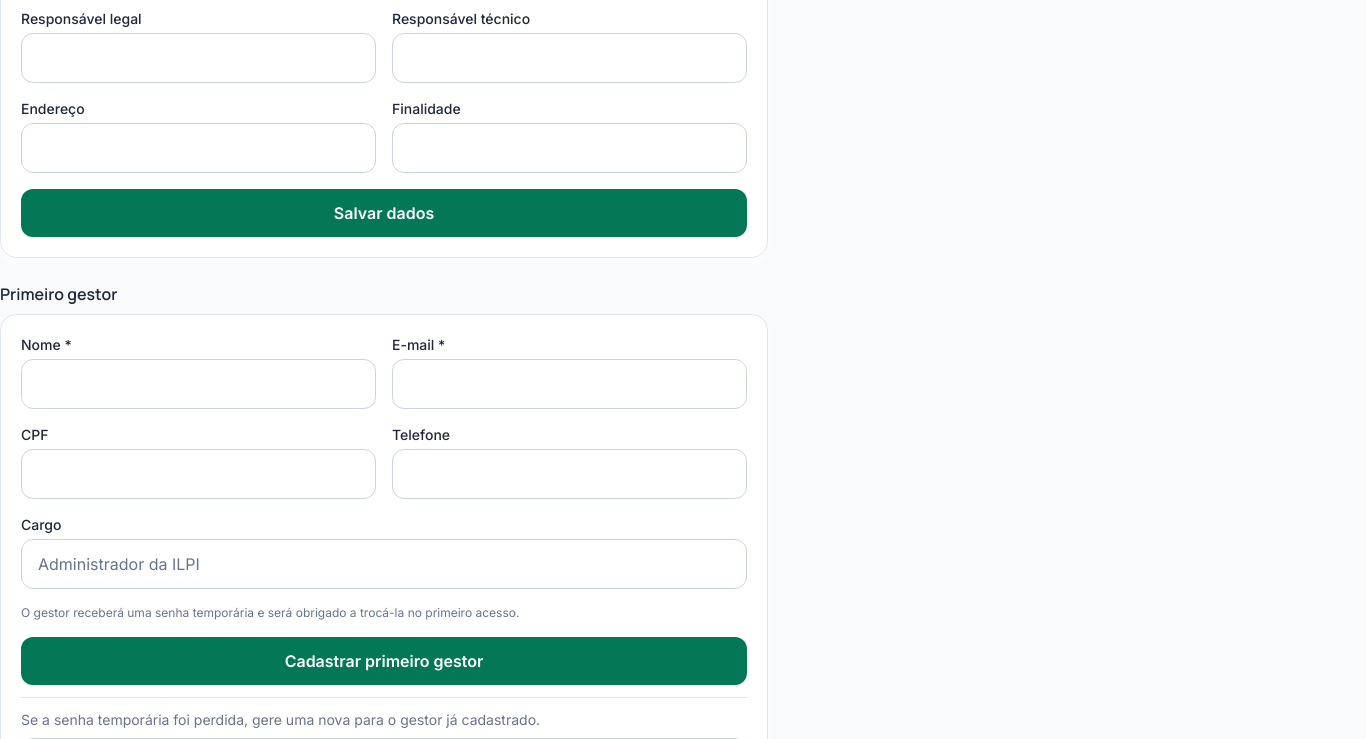
Test: Central — primeiro gestor e credencial › 14. cria gestor e exibe a senha temporária uma vez
The image size is (1366, 739).
(page scrolled)
Step 1. Type "Maria Gestora" into the field labelled "Nome *" → (198, 384), box [21,359,376,409]
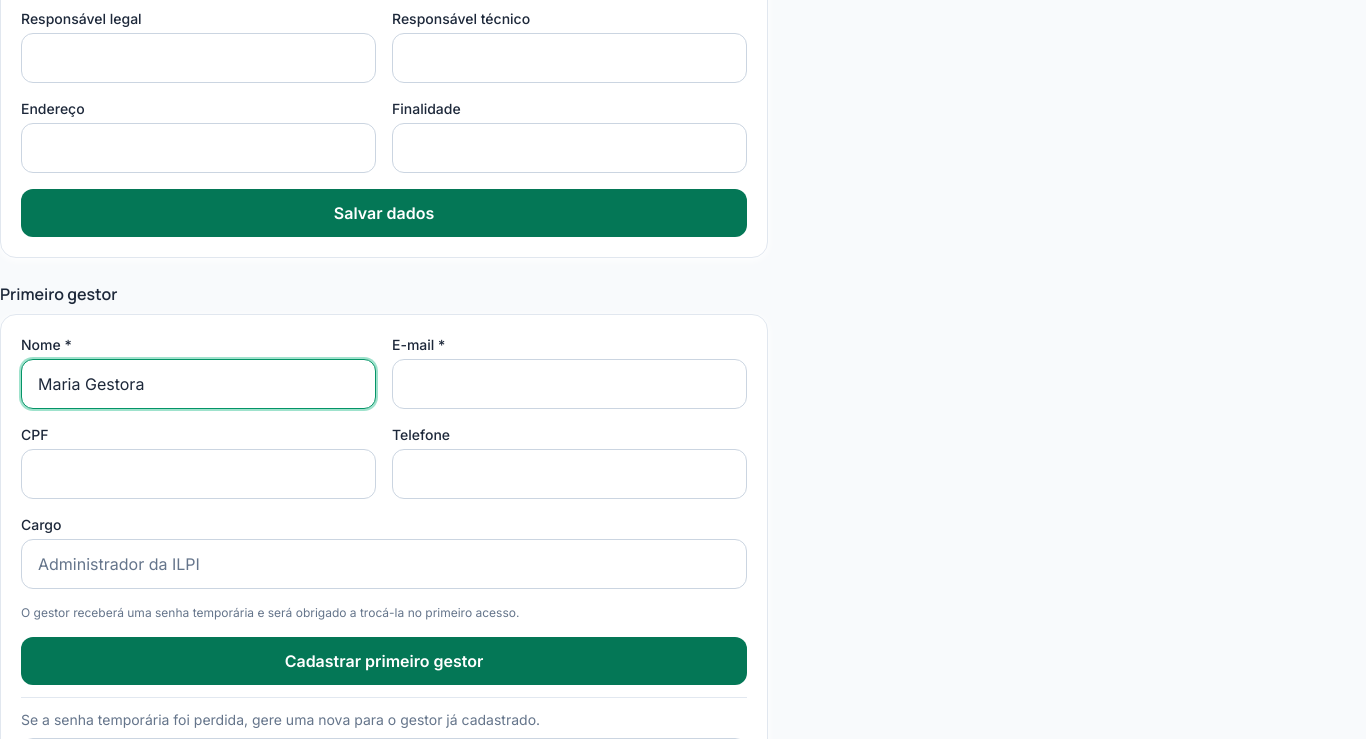
Step 2. Type "maria@casa.com.br" into the field labelled "E-mail *" → (570, 384), box [392,359,747,409]
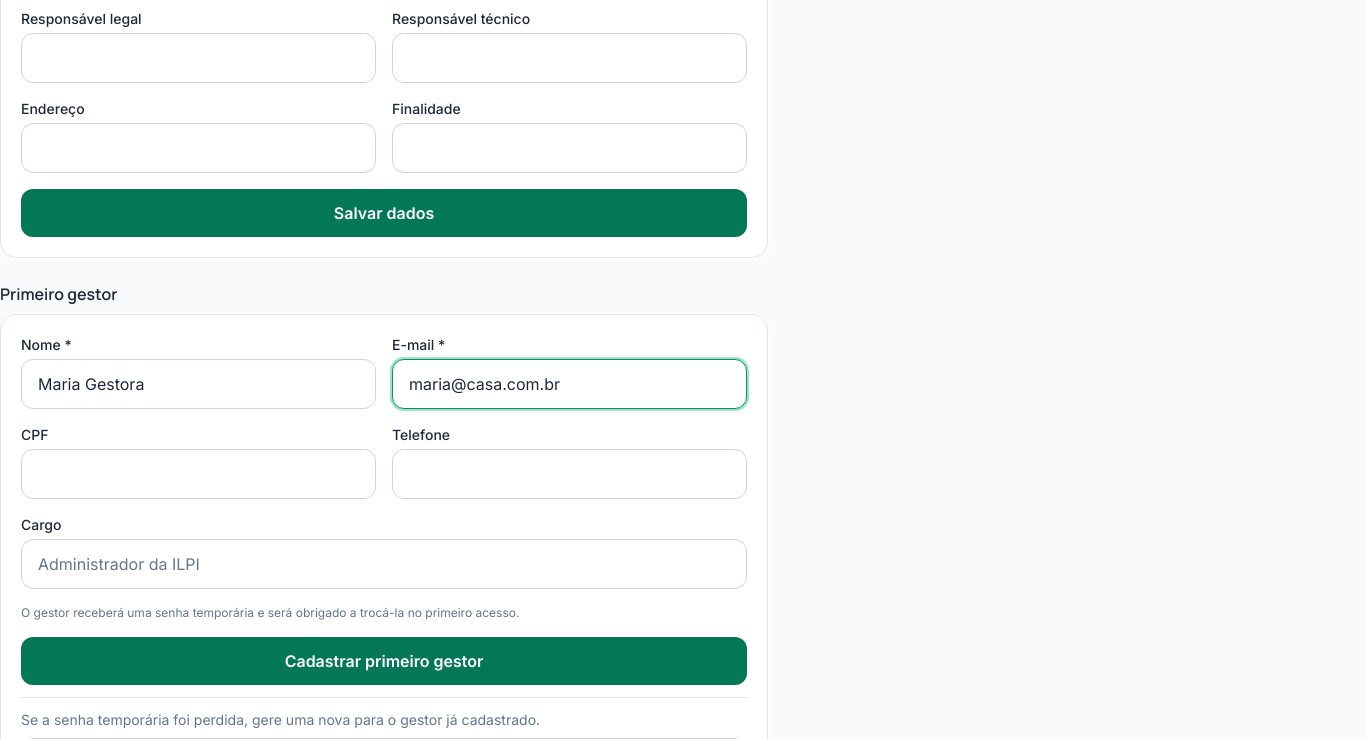
Step 3. Click the button "Cadastrar primeiro gestor" → (384, 661), box [21,637,747,685]
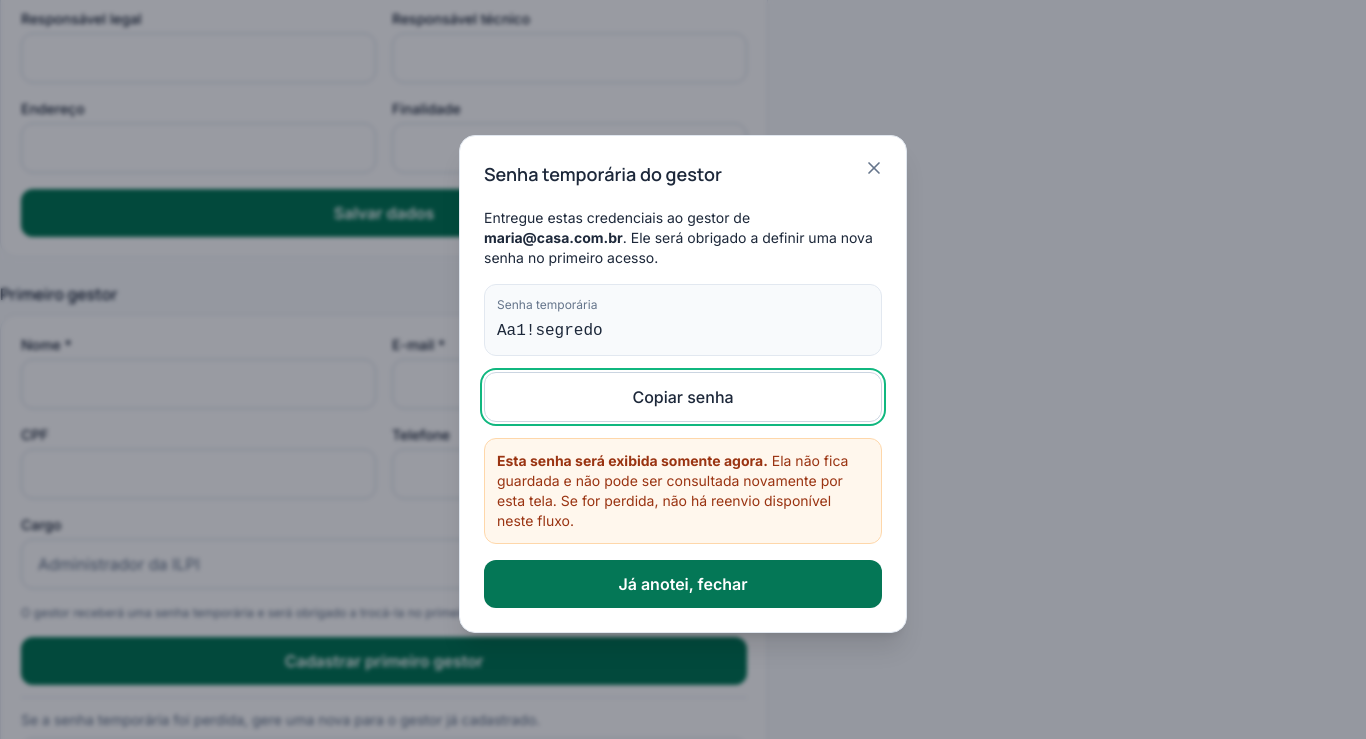
Result: the text with test id "senha-temporaria" reads "Aa1!segredo" at [497,322,603,340]
Result: the text "Esta senha será exibida somente agora." is shown at [497,452,768,469]
